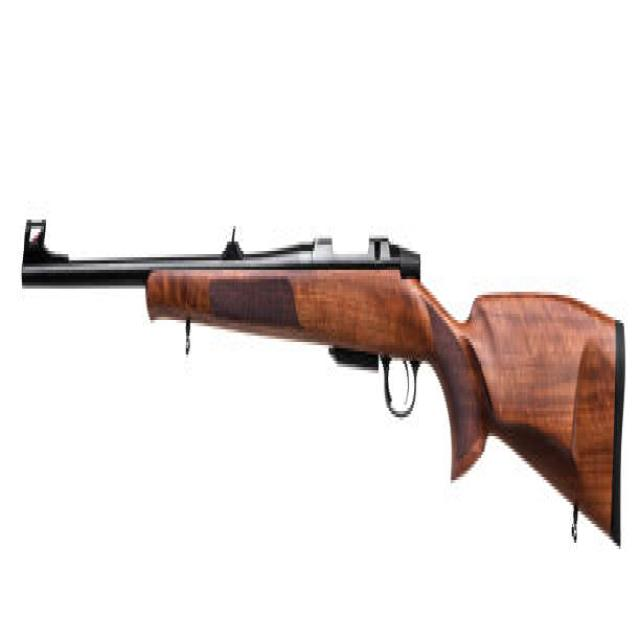rifle: (17, 184, 629, 596)
